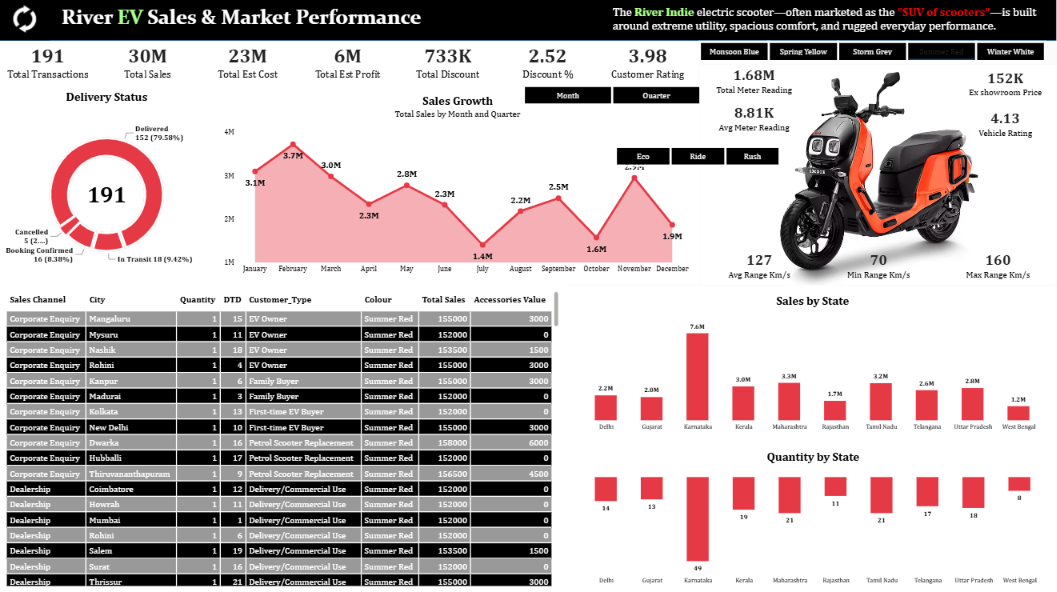

This screenshot's page, from the dashboard's own definition file:
{"tool":"powerbi","page":{"name":"Page 1","canvas":[1920,1080],"ordinal":0},"visuals":[{"type":"cardVisual","fields":{"Data":["Transactions.Total Transactions","Transactions.Total Sales","Transactions.Total Est Cost","Transactions.Total Est Profit","Transactions.Total Discount Given","Transactions.Total Discount Percentage","Transactions.Customer Rating"]},"box":[0,76,1268.6,83.2],"z":0},{"type":"cardVisual","fields":{"Data":["Min(Transactions.Image URL)"]},"box":[1270.5,122.1,649.5,399.1],"z":0,"group":"g1"},{"type":"shape","box":[0,0,1918.2,77.8],"z":1000},{"type":"cardVisual","fields":{"Data":["Transactions.Ex showroom price of Individual Vehicle"]},"box":[1727.7,120.1,191.9,72.4],"z":2000,"group":"g2"},{"type":"lineChart","title":"Sales Growth","fields":{"Category":["Transactions.Order_Date.Variation.Date Hierarchy.Month","Transactions.Order_Date.Variation.Date Hierarchy.Quarter"],"Y":["Transactions.Total Sales"]},"box":[394.5,159.3,875.9,360.1],"z":2000},{"type":"advancedSlicerVisual","fields":{"Values":["Date Axis.Date Axis"]},"box":[930.2,157.4,365.6,38],"z":3000},{"type":"advancedSlicerVisual","fields":{"Values":["Transactions.Colour"]},"box":[1248.7,77.8,669.6,39.8],"z":4000},{"type":"cardVisual","fields":{"Data":["Transactions.Average Rating"]},"box":[1727.7,192.5,191.9,75.7],"z":4000,"group":"g2"},{"type":"cardVisual","fields":{"Data":["Transactions.Average Range","Transactions.Minimum Range","Transactions.Maximum Range"]},"box":[1270.4,454.5,649.7,62.2],"z":4000,"group":"g1"},{"type":"actionButton","box":[0,0,97.7,77.8],"z":5000},{"type":"cardVisual","fields":{"Data":["Transactions.Total Odometer Reading","Transactions.Average Odometer Reading"]},"box":[1269.7,118.3,197.3,135.7],"z":5000,"group":"g1"},{"type":"textbox","box":[97.7,12.7,803.5,56.1],"z":6000},{"type":"donutChart","title":"Delivery Status","fields":{"Category":["Transactions.Delivery_Status"],"Y":["CountNonNull(Transactions.Delivery_Status)"]},"box":[0,152,394.5,369.2],"z":7000},{"type":"lineClusteredColumnComboChart","title":"Sales by State","fields":{"Category":["Transactions.State"],"Y":["Transactions.Total Sales"]},"box":[1031.5,521.2,886.7,282.3],"z":8000},{"type":"group","id":"g1","title":"Group 2","box":[1269.7,118.3,650.4,402.9],"z":9000},{"type":"group","id":"g2","title":"Group 1","box":[1727.7,120.1,191.9,149.9],"z":9000,"group":"g1"},{"type":"clusteredColumnChart","title":"Quantity by State","fields":{"Category":["Transactions.State"],"Y":["CountNonNull(Transactions.Quantity)"]},"box":[1031.5,803.5,888.5,276.9],"z":10000},{"type":"tableEx","fields":{"Values":["Transactions.Sales_Channel","Transactions.City","Sum(Transactions.Quantity)","Sum(Transactions.Days_To_Delivery)","Transactions.Customer_Type","Transactions.Colour","Transactions.Total Sales","Transactions.Accessories Value"]},"box":[0,517.6,1031.5,562.8],"z":11000},{"type":"advancedSlicerVisual","fields":{"Values":["Transactions.Preferred_Riding_Mode"]},"box":[1096.7,267.8,343.8,38],"z":12000},{"type":"textbox","box":[1112.9,12.7,805.3,54.3],"z":12001}]}

Visuals, with their boxes in screenshot pixels (x1, y1, x2, y2), scaled from the page's 1920x1080 canvas onto the 1057x592 screenshot:
cardVisual - Transactions.Total Transactions x Transactions.Total Sales: [0,42,698,87]
cardVisual - Min(Transactions.Image URL): [699,67,1056,286]
shape: [0,0,1056,43]
cardVisual - Transactions.Ex showroom price of Individual Vehicle: [951,66,1056,106]
"Sales Growth" lineChart: [217,87,699,285]
advancedSlicerVisual - Date Axis.Date Axis: [512,86,713,107]
advancedSlicerVisual - Transactions.Colour: [687,43,1056,64]
cardVisual - Transactions.Average Rating: [951,106,1056,147]
cardVisual - Transactions.Average Range x Transactions.Minimum Range: [699,249,1056,283]
actionButton: [0,0,54,43]
cardVisual - Transactions.Total Odometer Reading x Transactions.Average Odometer Reading: [699,65,808,139]
textbox: [54,7,496,38]
"Delivery Status" donutChart: [0,83,217,286]
"Sales by State" lineClusteredColumnComboChart: [568,286,1056,440]
"Group 2" group: [699,65,1056,286]
"Group 1" group: [951,66,1056,148]
"Quantity by State" clusteredColumnChart: [568,440,1056,591]
tableEx - Transactions.Sales_Channel x Transactions.City: [0,284,568,591]
advancedSlicerVisual - Transactions.Preferred_Riding_Mode: [604,147,793,168]
textbox: [613,7,1056,37]
